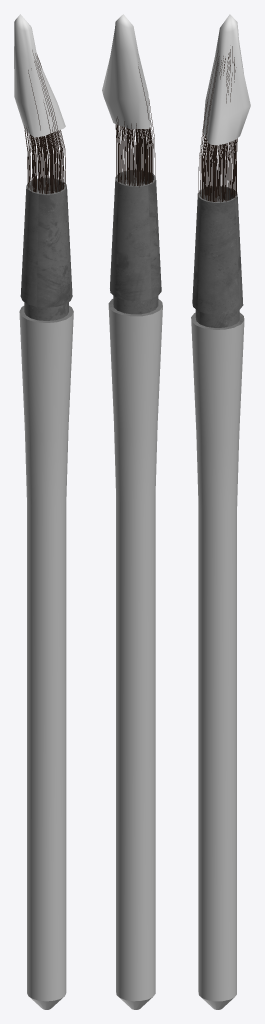
Rendered from Painting Brush.2fbx.fbx.
3 renders of one model, left to right at view 1: azimuth 90°, elevation 25°; view 2: azimuth 150°, elevation 25°; view 3: azimuth 330°, elevation 25°, orthographic.
Visible parts, largest first — view 1: Mesh, Paint; view 2: Mesh, Paint; view 3: Mesh, Paint.
Part boxes in pixels (x1,y1,x2,y2): Mesh: (19, 50, 73, 1009); Paint: (14, 14, 65, 137); Mesh: (108, 66, 162, 1009); Paint: (102, 14, 150, 128); Mesh: (191, 46, 244, 1009); Paint: (203, 14, 250, 145).
Size of the model in its own units: 2.91 by 58.37 by 3.18.
